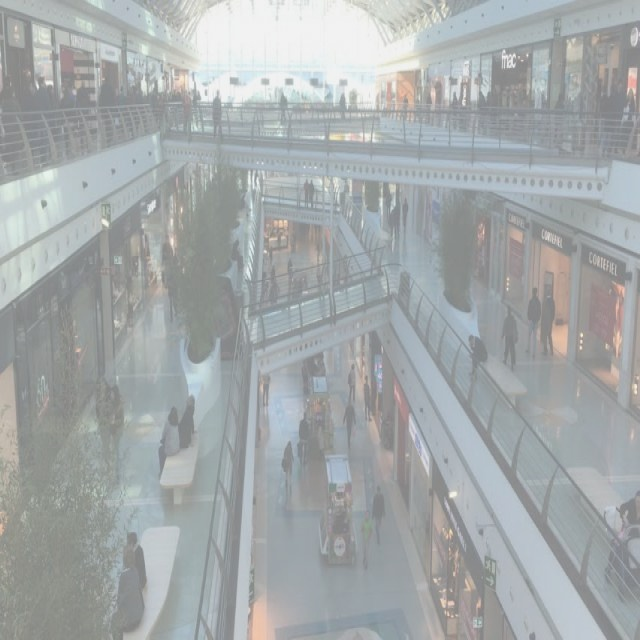pessoa: (90, 366, 128, 478), (108, 541, 147, 639), (533, 85, 582, 155), (99, 72, 141, 146), (612, 488, 640, 558), (160, 230, 180, 322), (598, 84, 622, 158), (142, 86, 184, 128), (157, 404, 180, 480), (126, 530, 148, 598), (523, 285, 541, 360), (139, 226, 154, 306), (476, 86, 499, 138), (501, 302, 518, 372), (620, 86, 636, 154), (178, 392, 197, 449), (467, 332, 488, 383), (540, 286, 555, 356), (268, 85, 292, 127), (370, 482, 385, 546), (624, 104, 639, 166), (280, 439, 296, 497), (342, 396, 356, 452), (360, 508, 372, 571), (316, 234, 330, 288), (276, 227, 302, 254), (297, 409, 309, 467), (212, 88, 224, 139), (267, 241, 276, 304), (362, 373, 372, 423), (182, 89, 192, 136), (231, 238, 244, 274), (388, 204, 400, 240), (346, 361, 356, 404), (316, 418, 326, 461), (238, 186, 252, 216), (249, 168, 264, 196), (336, 88, 348, 121), (370, 369, 378, 416), (186, 84, 202, 104), (401, 194, 409, 233), (384, 186, 392, 222), (262, 374, 270, 409), (302, 176, 310, 208), (425, 90, 432, 124), (308, 178, 315, 210), (287, 254, 294, 284), (402, 94, 409, 122), (413, 94, 420, 122), (374, 90, 380, 114), (452, 89, 458, 107), (539, 324, 543, 342)
